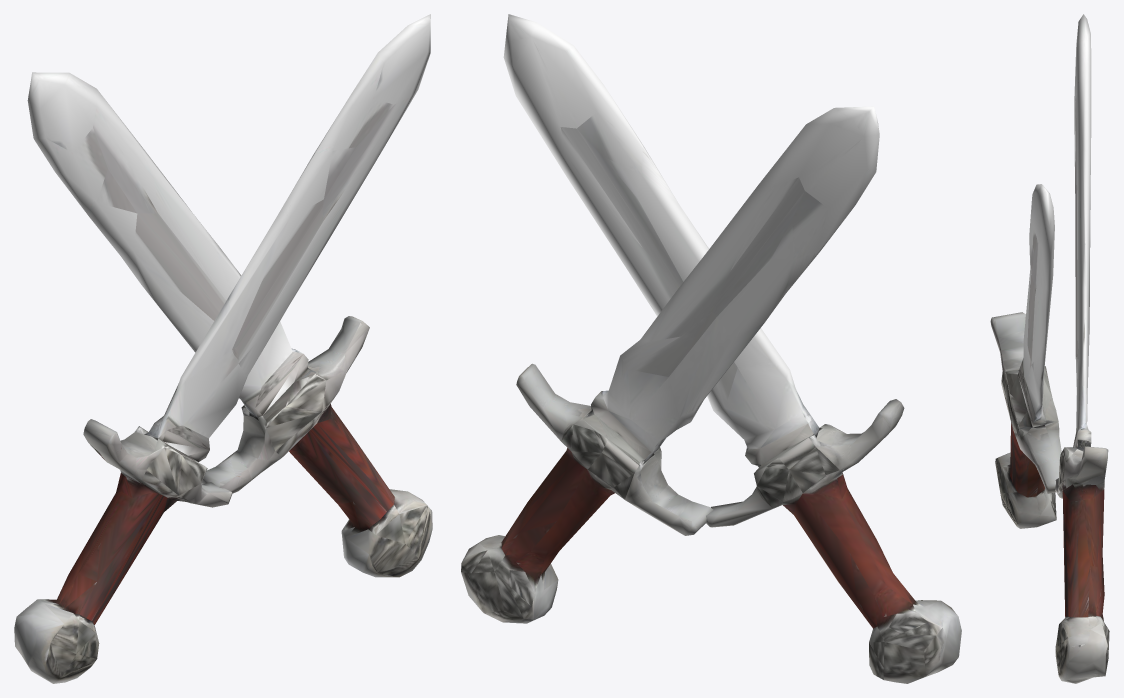
Rendered from swords.comp.glb.
3 renders of one model, left to right at view 1: azimuth 30°, elevation 25°; view 2: azimuth 150°, elevation 25°; view 3: azimuth 270°, elevation 25°, orthographic. The views are drawn at different scales.
Parts seen in each view (by area): view 1: swords-power-up; view 2: swords-power-up; view 3: swords-power-up.
Boxes of the visible parts, <box> form: swords-power-up: <box>14,14,432,683</box>; swords-power-up: <box>461,14,961,683</box>; swords-power-up: <box>990,14,1109,683</box>.
Bounding box in the file's own units: 0.5264 × 0.6755 × 0.1411.
Materials: 1 (1 with a texture image).
